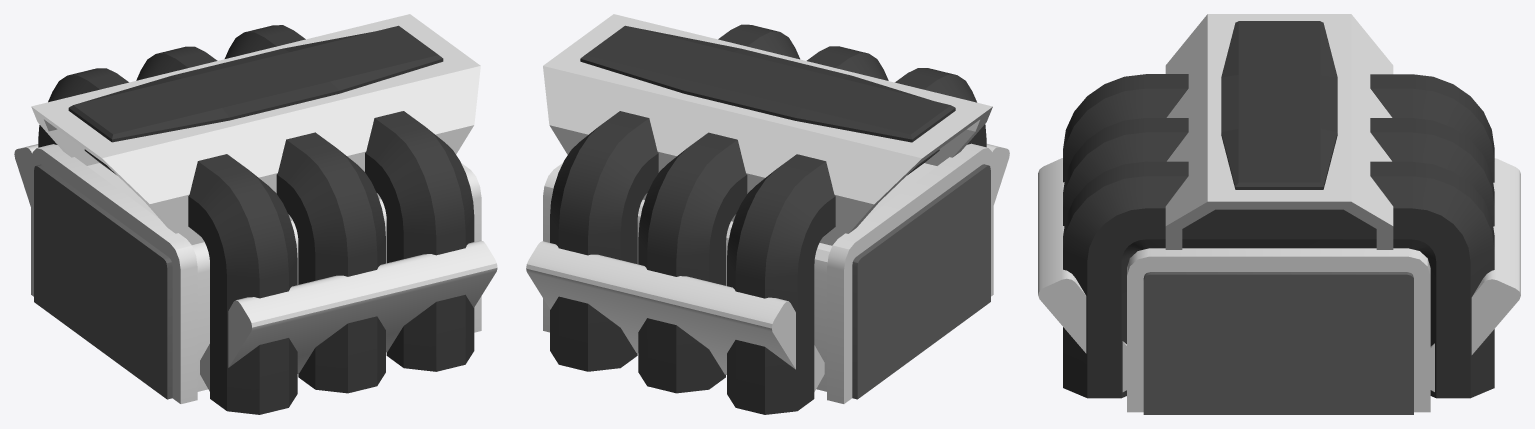
The model's file is SM_Engine_Tank.fbx.
3 renders of one model, left to right at view 1: azimuth 30°, elevation 25°; view 2: azimuth 150°, elevation 25°; view 3: azimuth 270°, elevation 25°, orthographic.
Visible parts, largest first — view 1: TankEngine; view 2: TankEngine; view 3: TankEngine.
Part boxes in pixels (<box>): TankEngine: <box>14,14,497,414</box>; TankEngine: <box>526,14,1009,414</box>; TankEngine: <box>1038,14,1520,414</box>.
Bounding box in the file's own units: 99.27 × 58.23 × 108.
